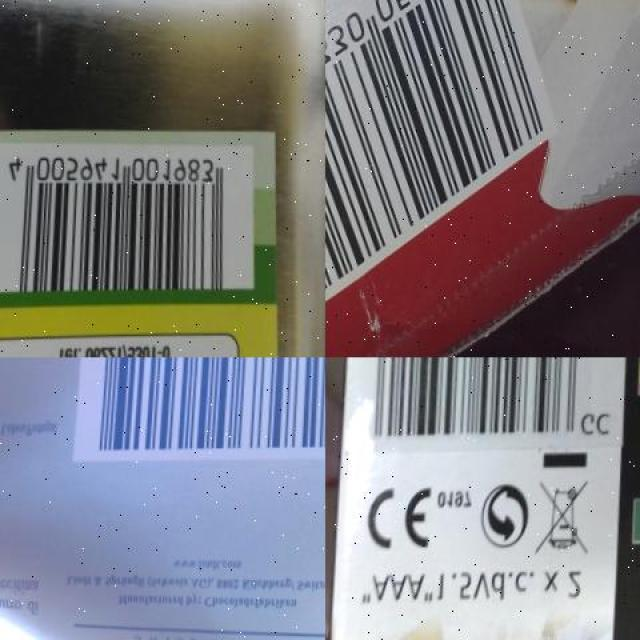Barcode: (325, 0, 575, 332), (0, 146, 264, 294), (75, 357, 325, 463), (353, 358, 627, 453)
